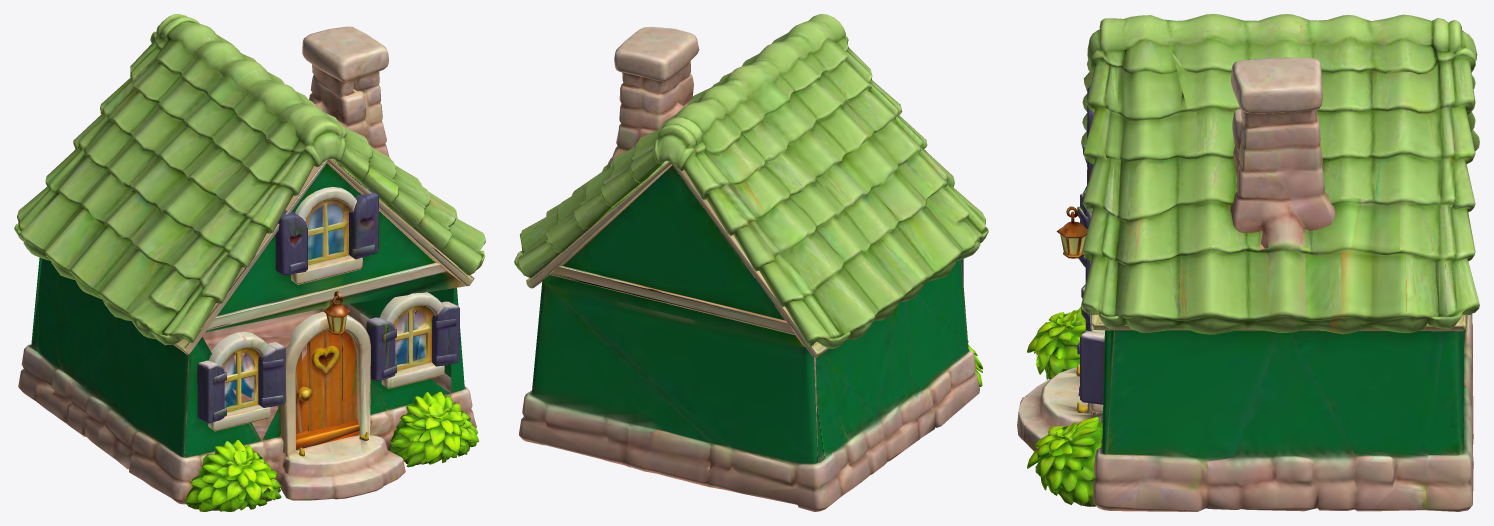
File: forest_green_cottage.glb
3 renders of one model, left to right at view 1: azimuth 30°, elevation 25°; view 2: azimuth 150°, elevation 25°; view 3: azimuth 270°, elevation 25°, orthographic. The views are drawn at different scales.
Visible parts, largest first — view 1: geometry_0; view 2: geometry_0; view 3: geometry_0.
Boxes of the visible parts, box(x1,y1,x2,y2) form: geometry_0: box(14, 14, 485, 511); geometry_0: box(514, 14, 988, 511); geometry_0: box(1017, 14, 1479, 511).
Size of the model in its own units: 0.9517 by 0.9077 by 0.9248.
1 material, 1 textured.
